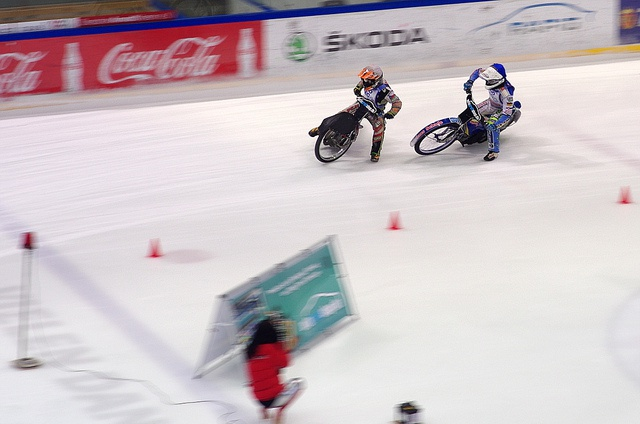non-vehicle: (410, 89, 521, 154), (315, 93, 386, 163)
